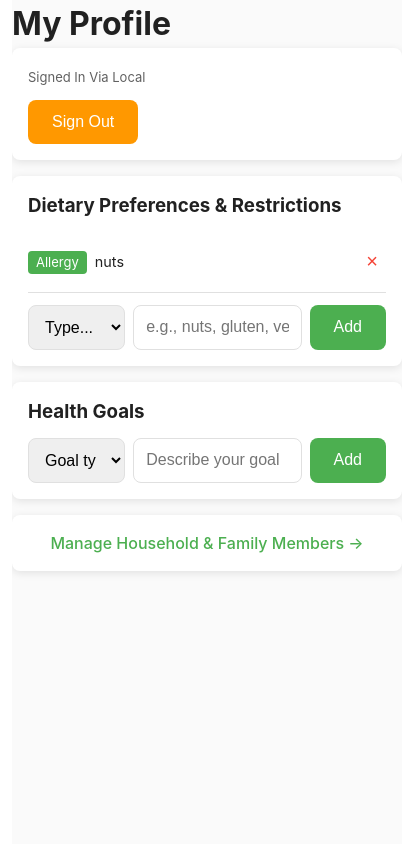
Scenario: ProfileView › adds a health goal via form submission
This screenshot has width=402, height=844.
Step 1. Select "weight loss" in the dropdown below "Health Goals" → (77, 460), box top-left (28, 438), bottom-right (125, 483)
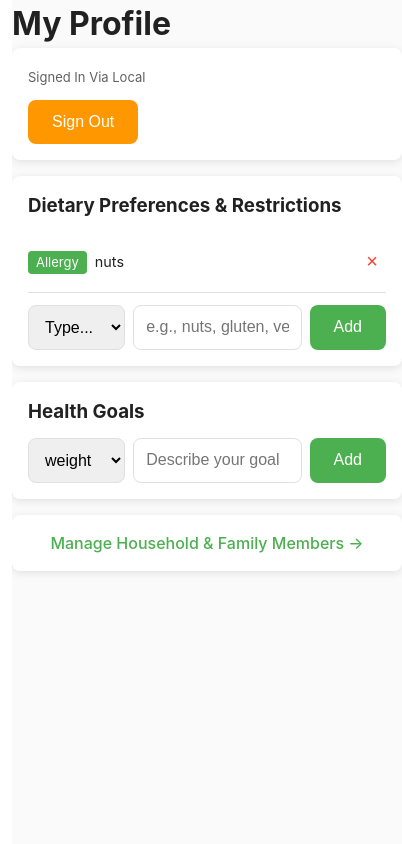
Step 2. Type "Lose weight" into the field with placeholder "Describe your goal" → (217, 460), box top-left (133, 438), bottom-right (302, 483)
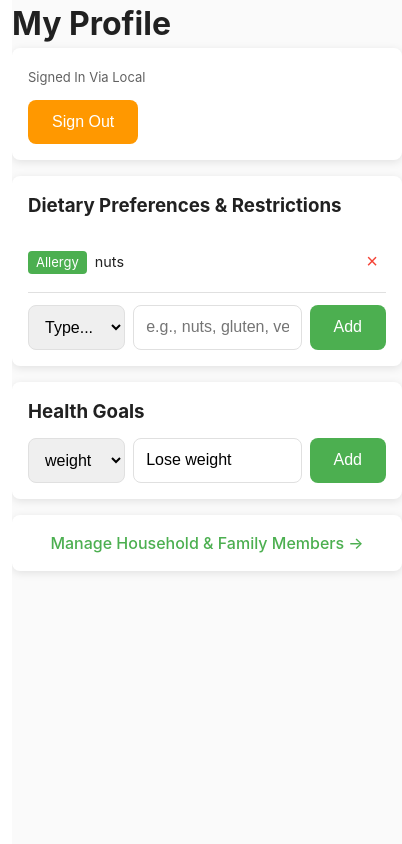
Step 3. Submit the form with class "add-form" below "Health Goals", box top-left (28, 438), bottom-right (386, 483)
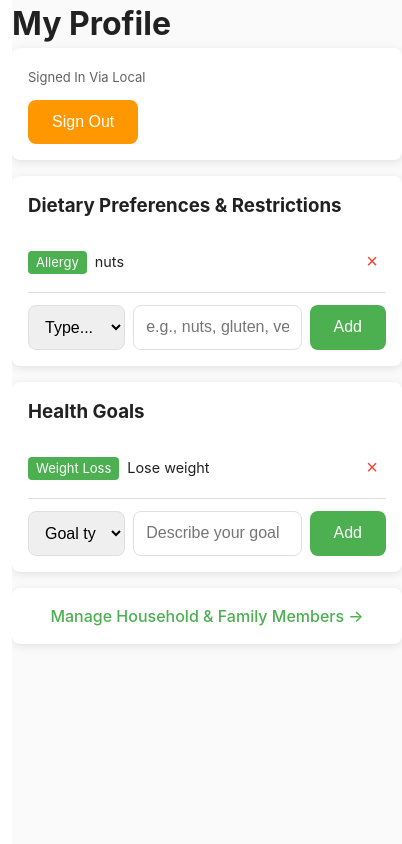
Result: the text "weight loss" is shown at top-left (28, 457), bottom-right (119, 480)
Result: the text "Lose weight" is shown at top-left (127, 459), bottom-right (210, 476)
